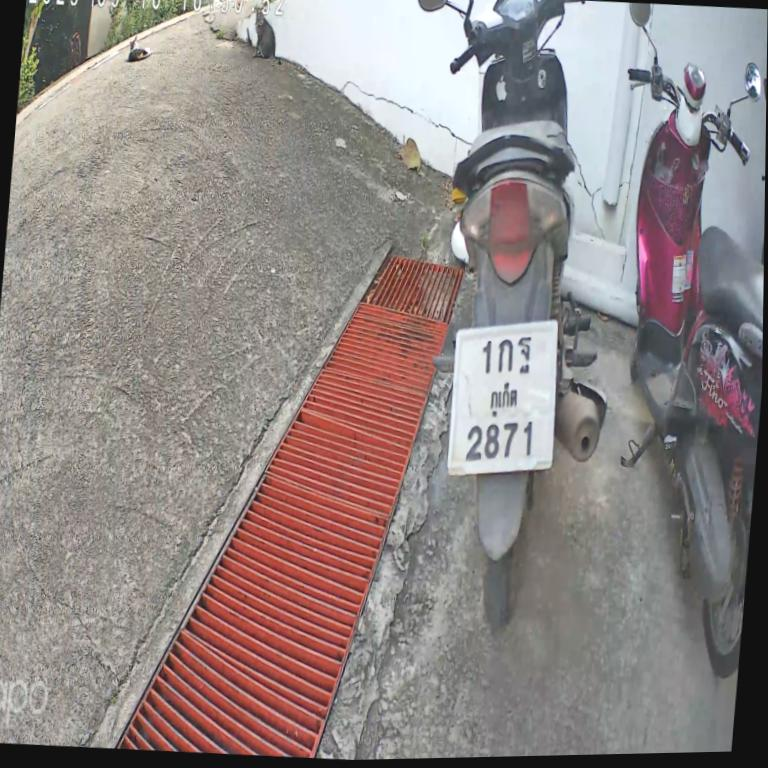license plate: (436, 299, 576, 494)
